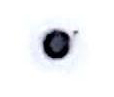cancer: (23, 13, 94, 77)
